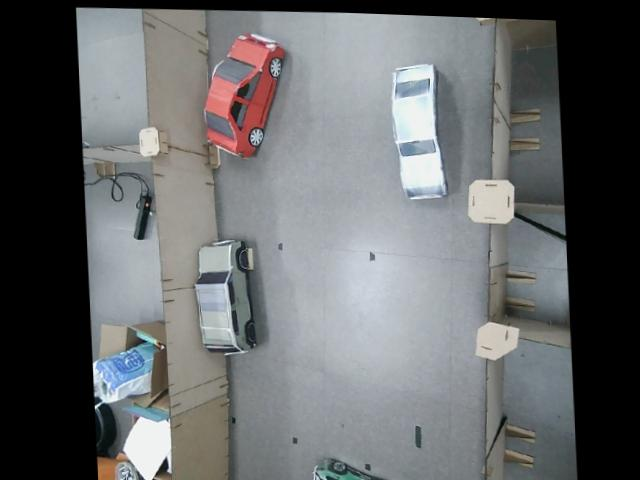car: (200, 29, 291, 159), (390, 60, 449, 200), (192, 238, 258, 354), (308, 455, 413, 480)
